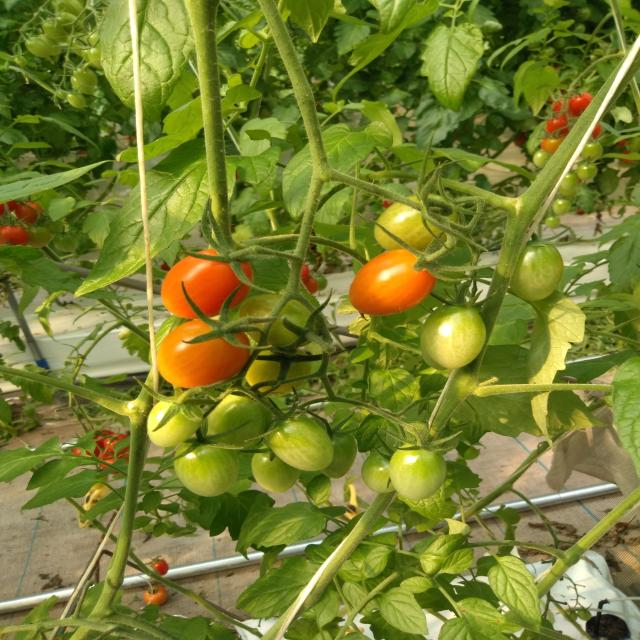kirmizi: (164, 243, 287, 405)
